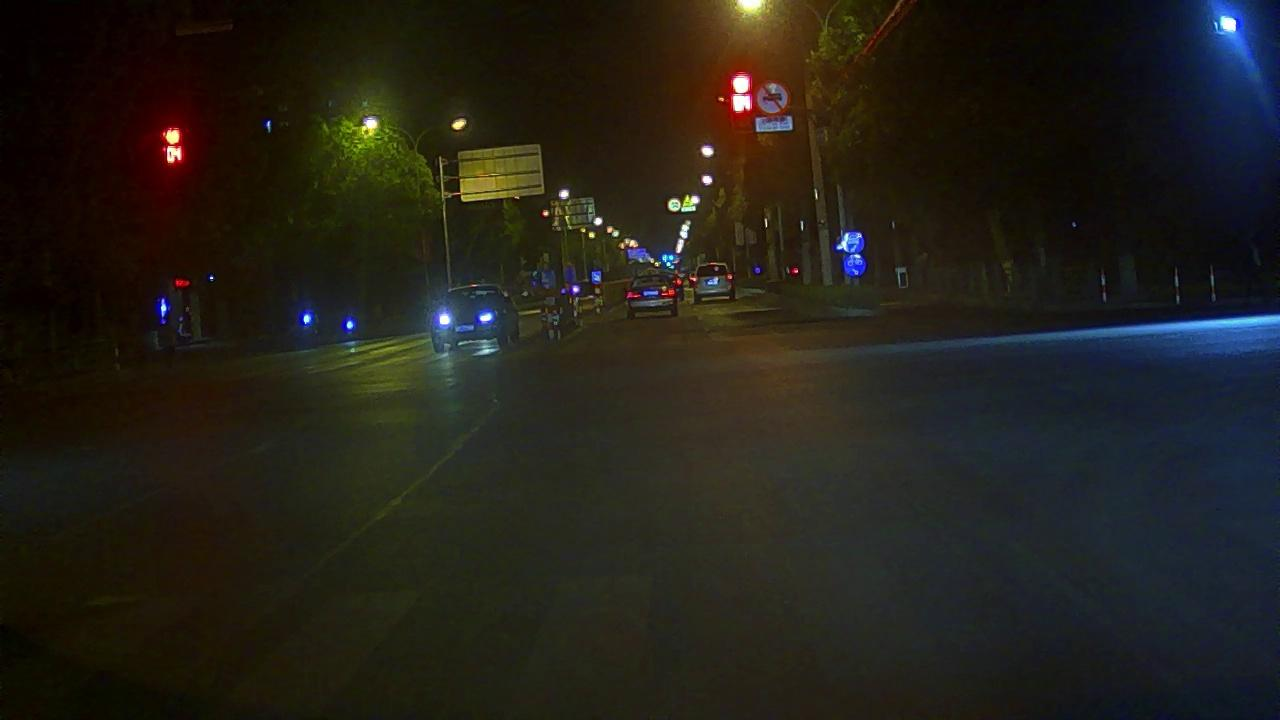traffic_light: (157, 125, 191, 172), (726, 66, 756, 119)
